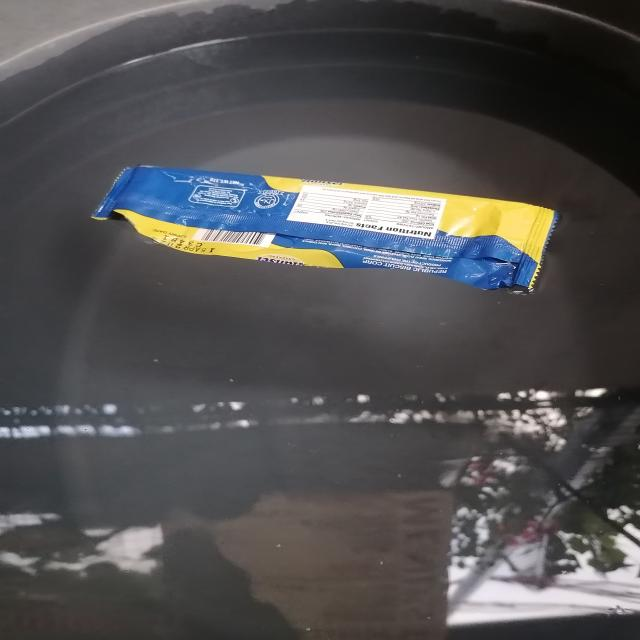Plastic Wrapper: (92, 166, 558, 289), (219, 139, 461, 190), (532, 187, 632, 297), (236, 175, 301, 219)
